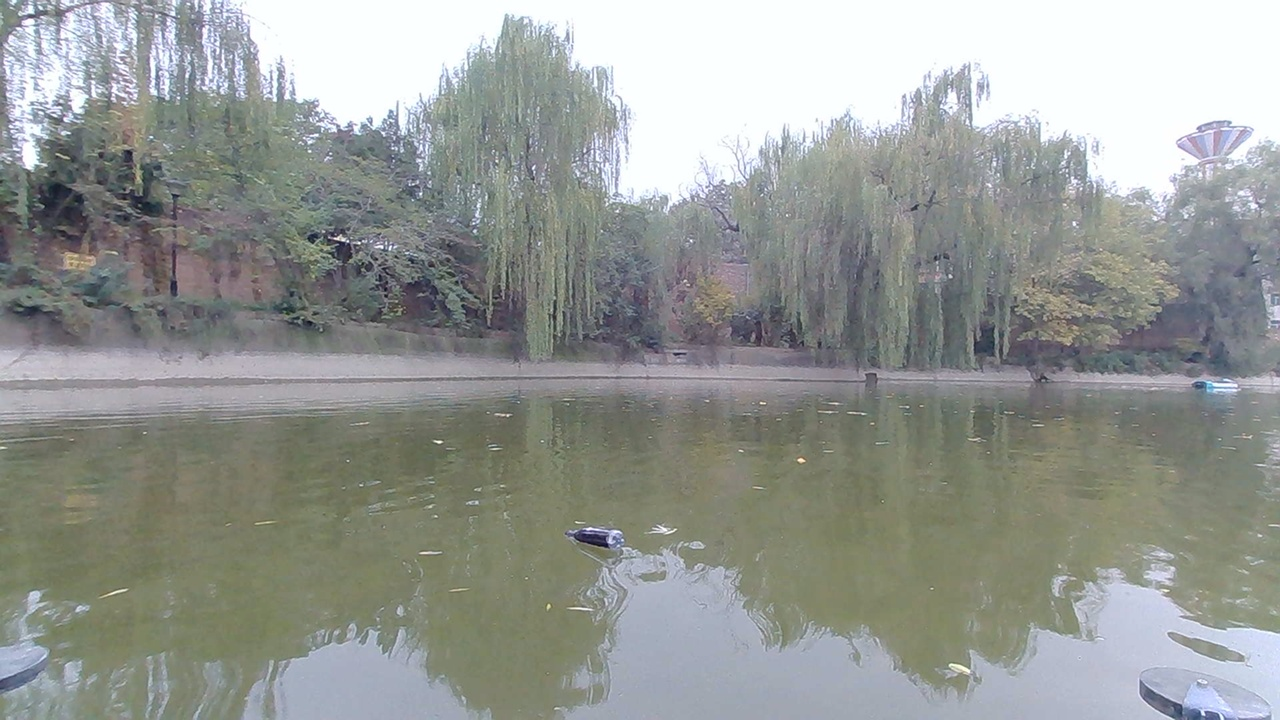bottle: (575, 524, 629, 558)
